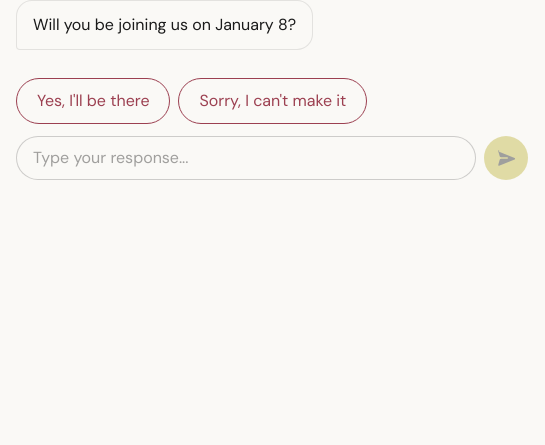
Test: RSVPChat parking question (ADR-0008) › records "Not sure yet" and tells the guest how to come back
The image size is (545, 445).
Click the button "Yes, I'll be there" at (93, 101), box [16,78,170,124]
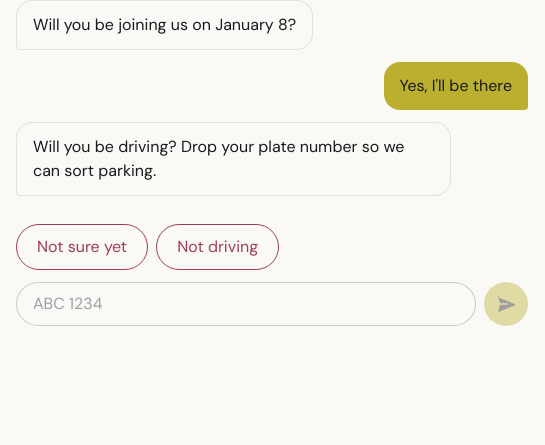
Now the text "plate number" is shown, box [33,136,404,181]
Click the button "Not sure yet" at (82, 247), box [16,224,148,270]
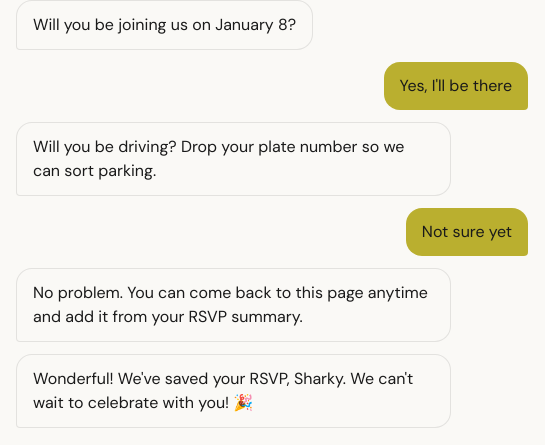
Now the text "come back to this page anytime" is shown, box [33,282,428,327]
